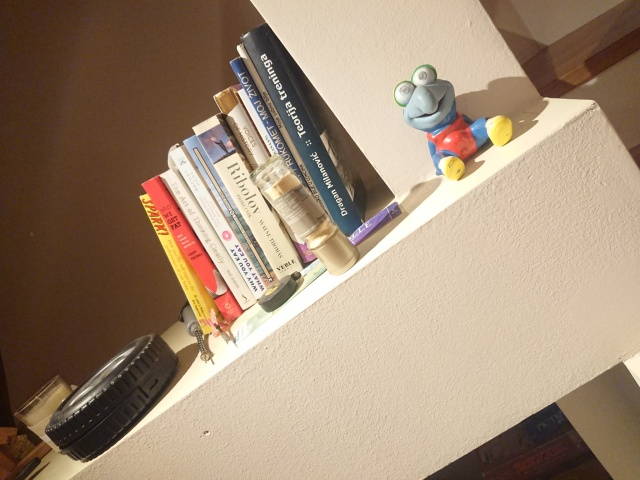Kotanyi Garlic Granules 70g: (248, 156, 363, 279)
